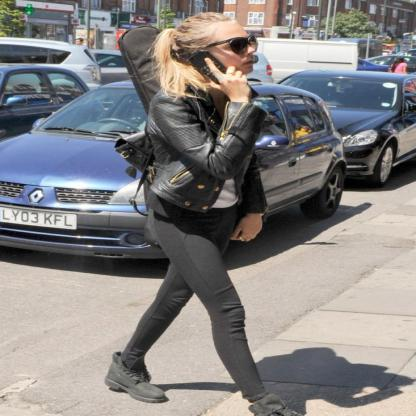Car: (0, 78, 349, 260), (278, 67, 415, 187), (2, 64, 86, 141), (0, 35, 98, 90), (92, 48, 135, 84), (365, 52, 416, 70)
